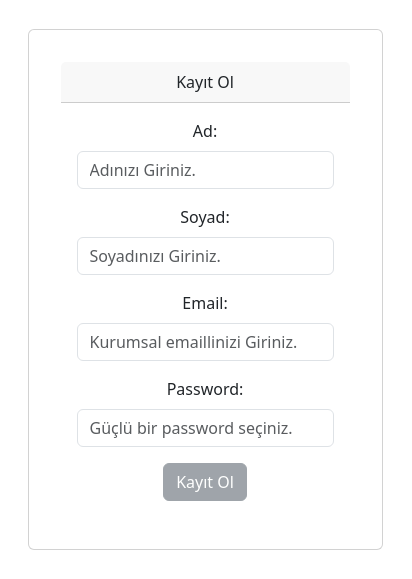
Form Page › Form Page › Surname input throws error for 2 chars
Type "uy" into the field with test id "soyad-input". click: (206, 256)
box: [77,237,334,275]
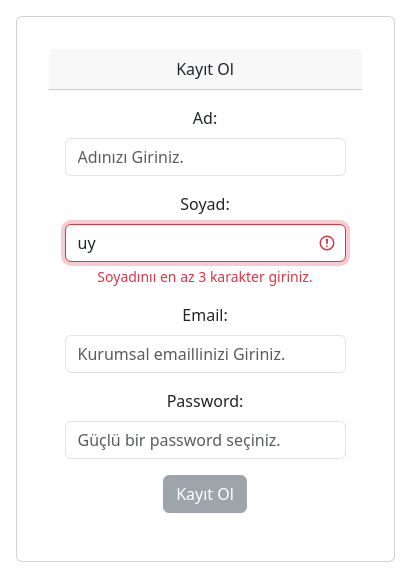
Expected: the text "Soyadınıı en az 3 karakter giriniz." is shown, [97,267,313,286]
